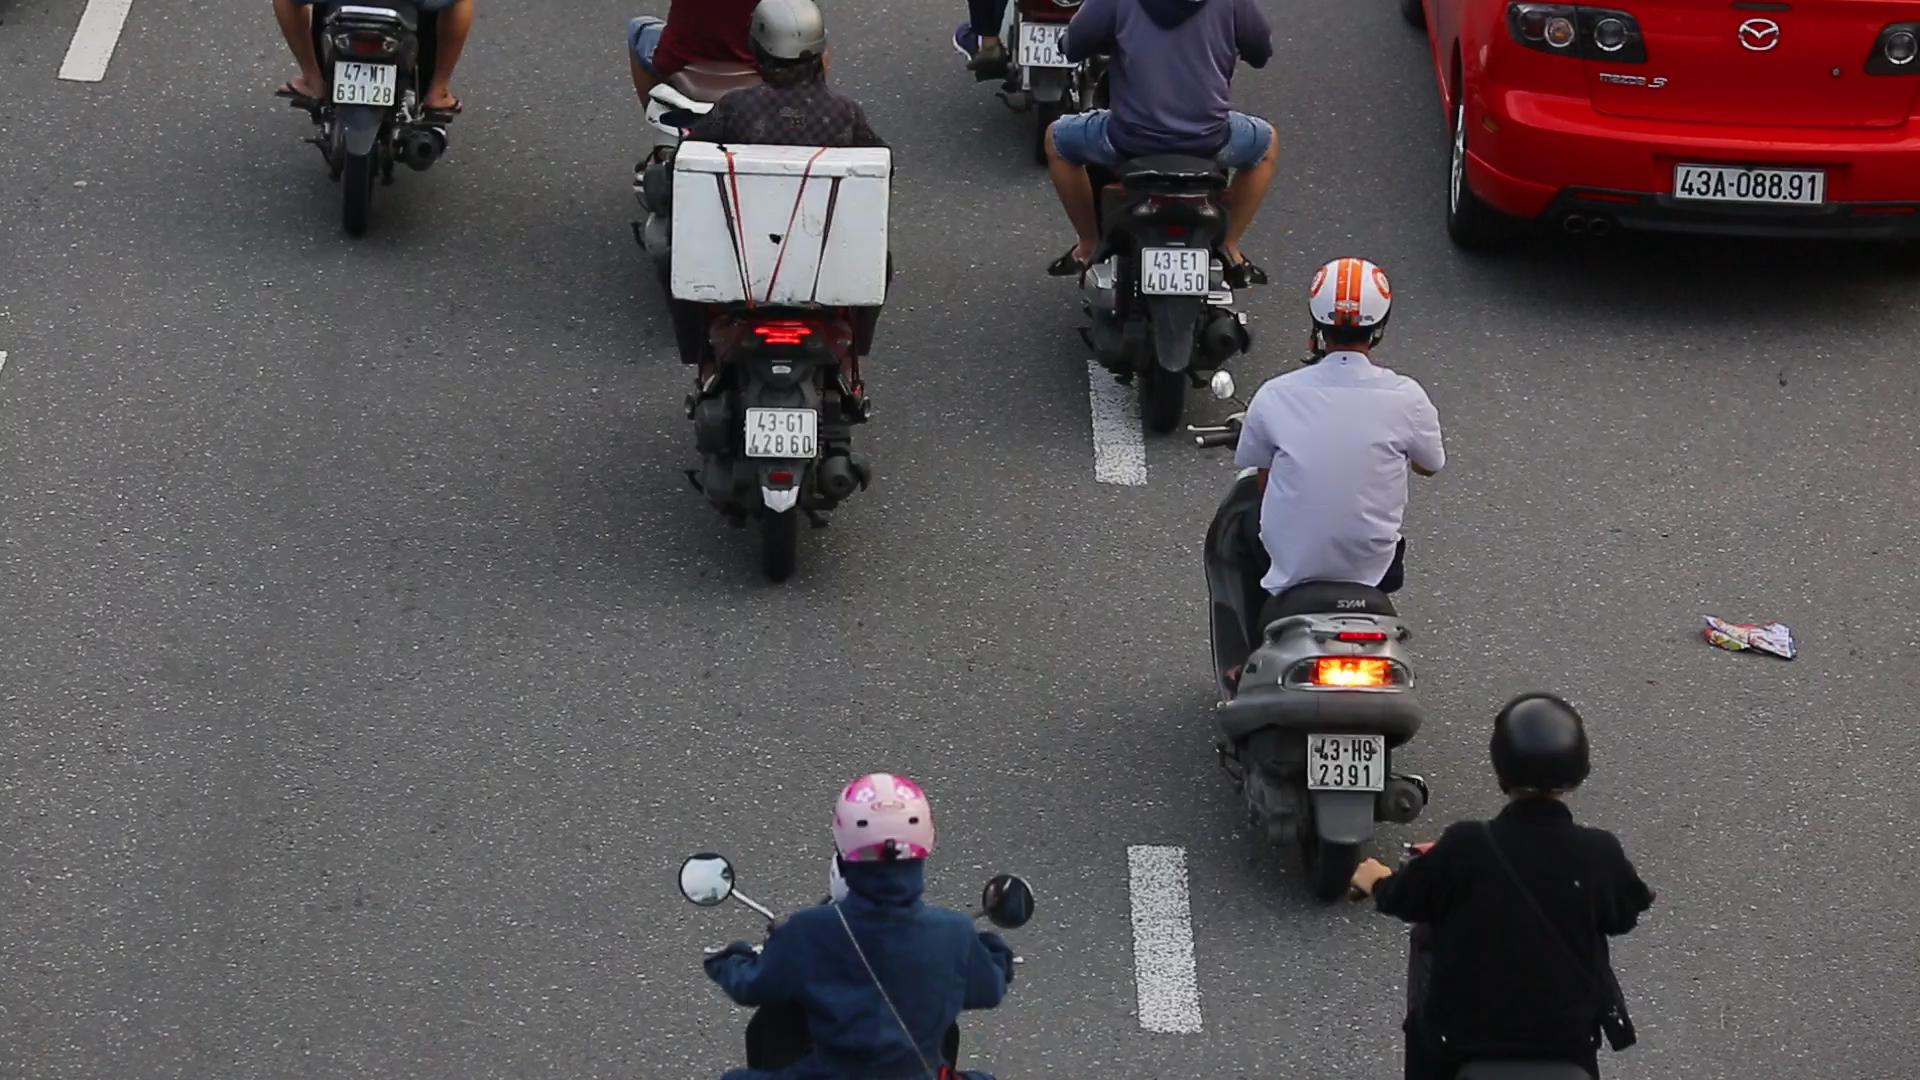motobike: (1172, 249, 1453, 923), (666, 7, 905, 601)
